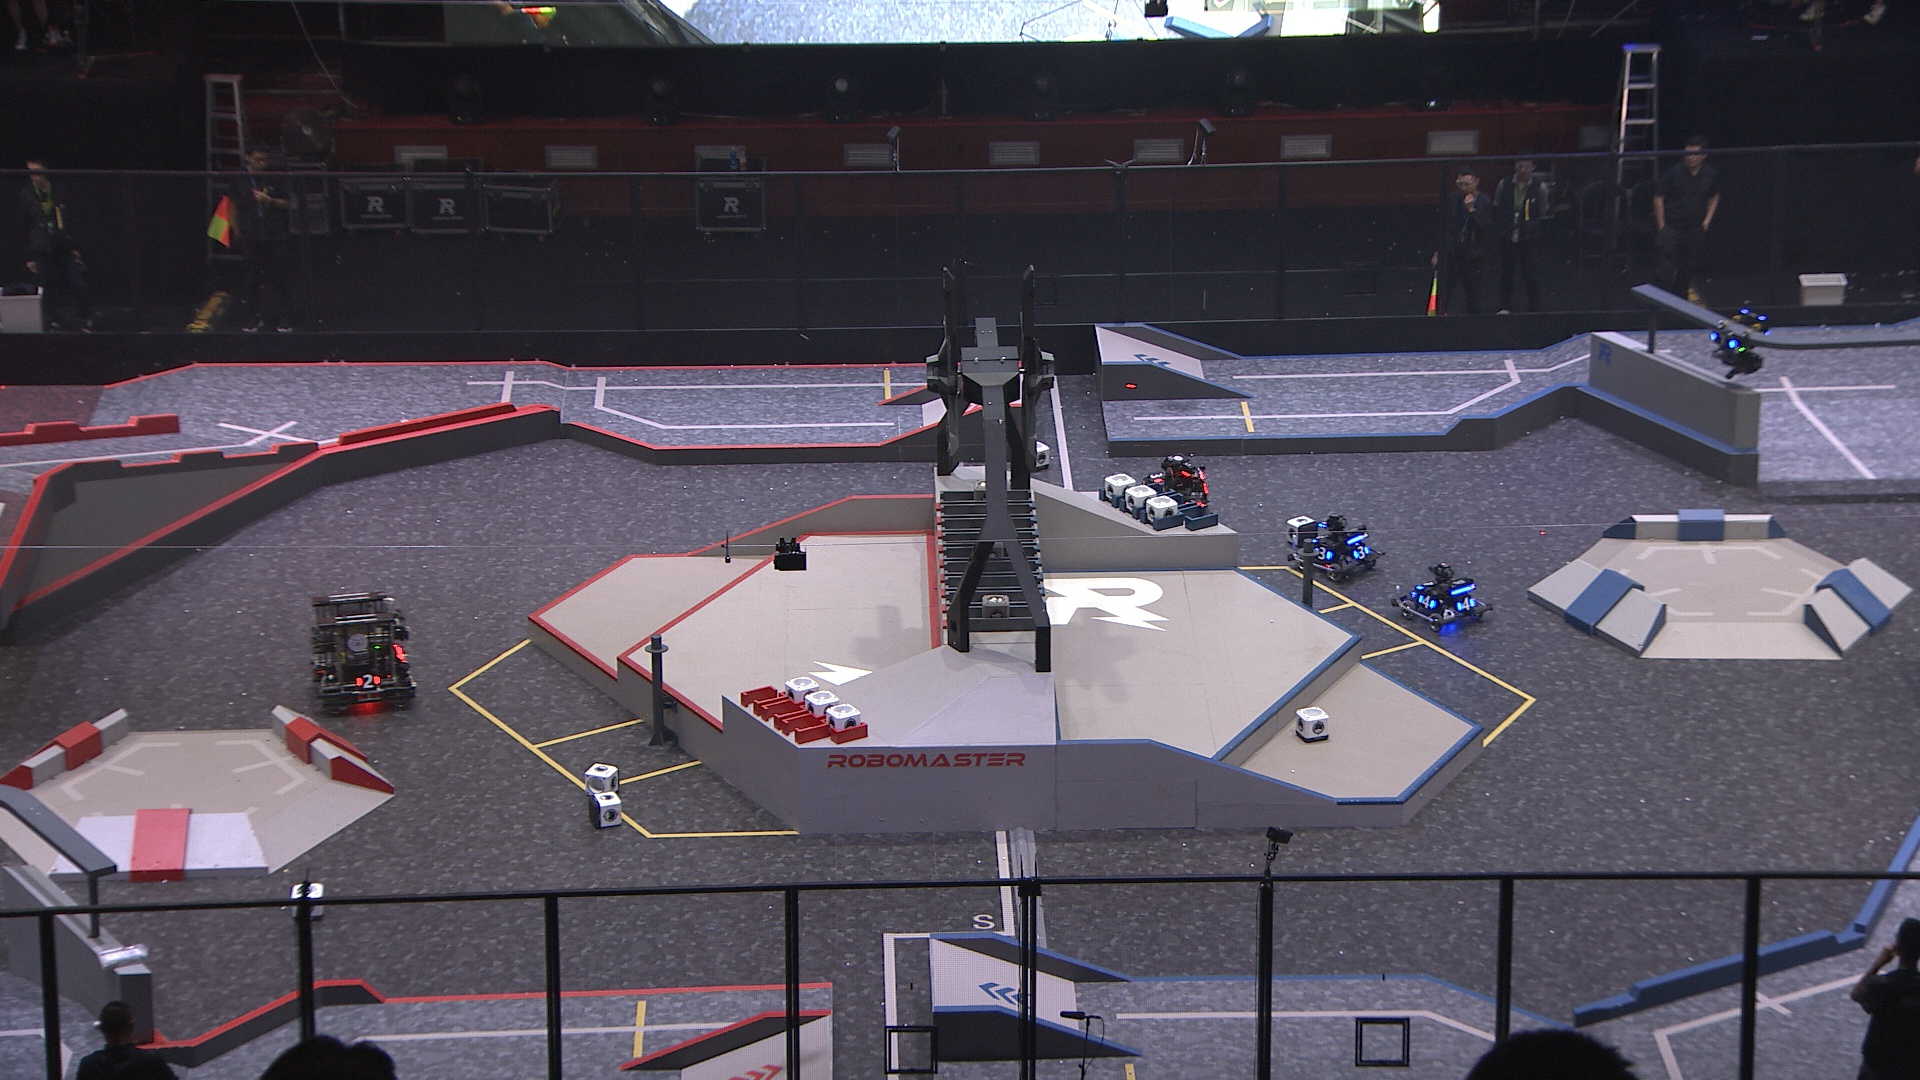armor: (1706, 327, 1741, 352), (352, 670, 382, 690), (1349, 541, 1371, 562), (1311, 543, 1333, 564), (1145, 467, 1166, 487), (1456, 595, 1477, 615), (1416, 593, 1433, 612), (1414, 576, 1437, 589), (1309, 527, 1327, 542)
car: (309, 585, 418, 713), (1391, 560, 1495, 632), (1287, 509, 1387, 582), (1127, 451, 1215, 527)
watcher: (1702, 299, 1768, 378)
